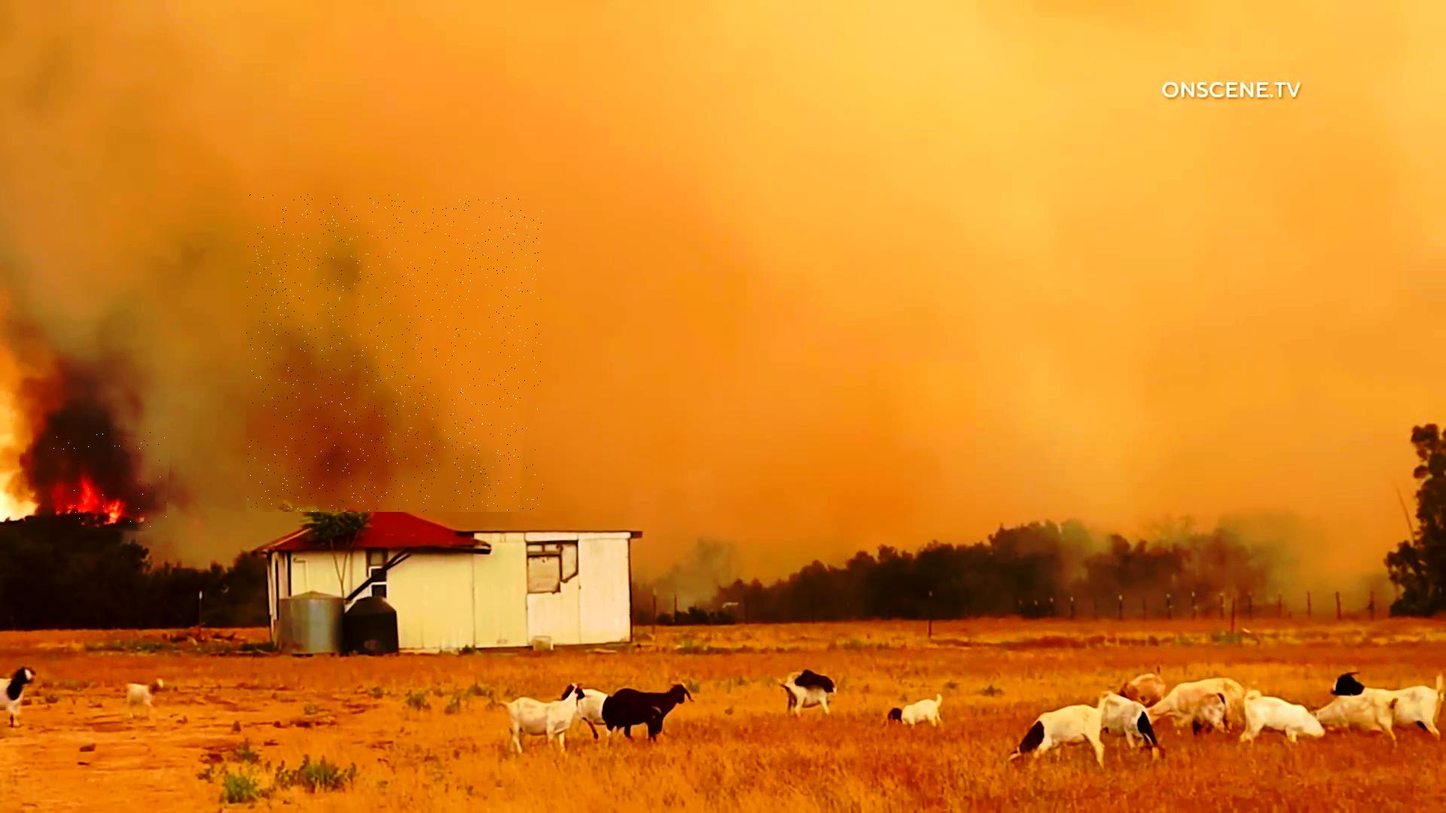fire: (51, 429, 171, 532)
smoke: (246, 194, 543, 512)
